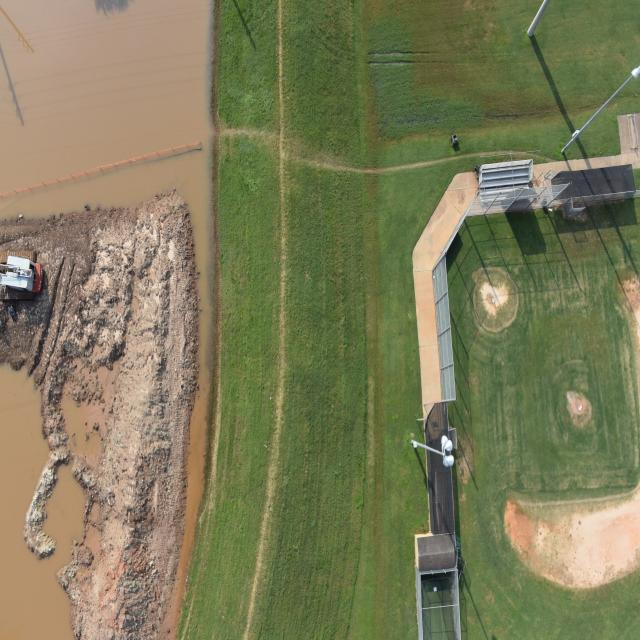fire: (0, 0, 213, 554), (0, 366, 84, 639)
